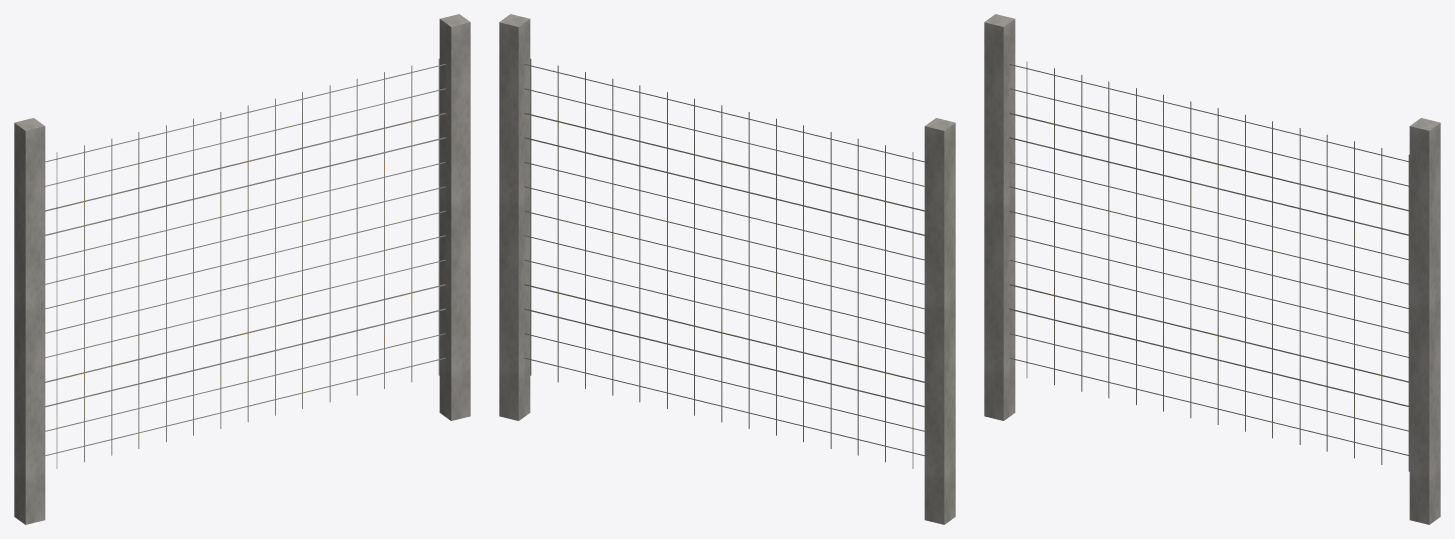
Rendered from fence_concrete.glb.
The picture shows the model from 3 angles, left to right: view 1: azimuth 30°, elevation 25°; view 2: azimuth 150°, elevation 25°; view 3: azimuth 330°, elevation 25°; orthographic projection.
Visible parts, largest first — view 1: FENCE_POSTS_PANEL, FENCE_MESH_PANEL; view 2: FENCE_POSTS_PANEL, FENCE_MESH_PANEL; view 3: FENCE_POSTS_PANEL, FENCE_MESH_PANEL.
Boxes of the visible parts, box(x1,y1,x2,y2) form: FENCE_POSTS_PANEL: box(14, 14, 470, 524); FENCE_MESH_PANEL: box(45, 58, 445, 468); FENCE_POSTS_PANEL: box(499, 14, 955, 524); FENCE_MESH_PANEL: box(524, 58, 924, 468); FENCE_POSTS_PANEL: box(984, 14, 1440, 524); FENCE_MESH_PANEL: box(1009, 61, 1409, 471).
Bounding box in the file's own units: 2.72 × 2.3 × 0.12.
2 materials, 2 textured.
